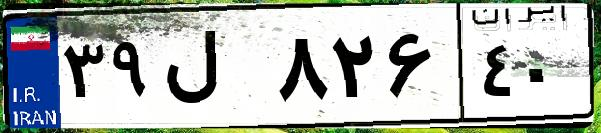0: (525, 38, 570, 115)
2: (330, 28, 385, 110)
3: (57, 26, 110, 100)
4: (475, 38, 525, 113)
6: (385, 28, 445, 110)
8: (270, 28, 330, 110)
9: (110, 28, 158, 98)
ل: (158, 20, 270, 120)
